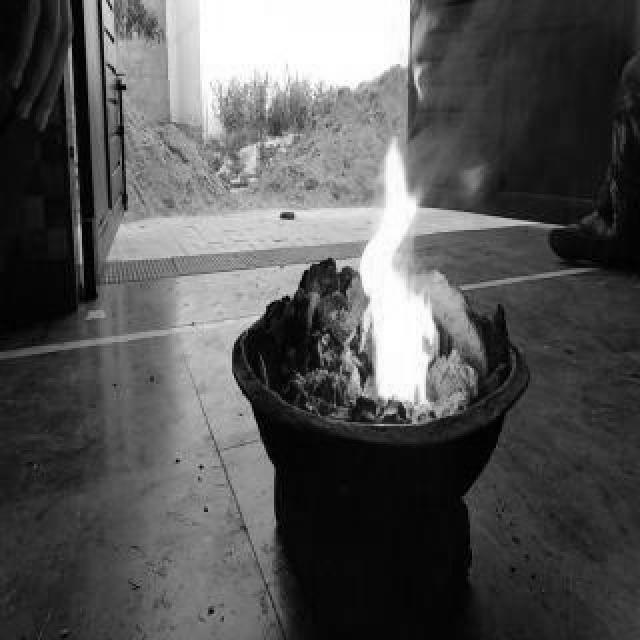Fire: (354, 124, 400, 406), (400, 204, 442, 404), (452, 158, 492, 212)
Smoke: (400, 108, 440, 202)
